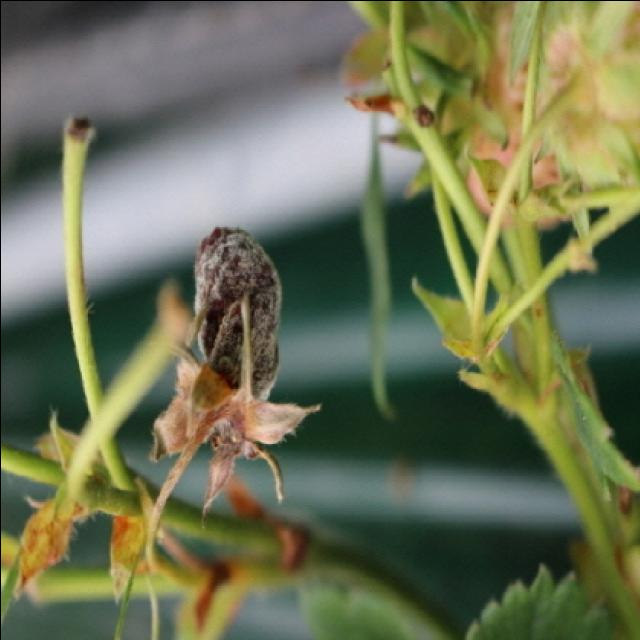Gray Mold: (149, 223, 320, 515)
